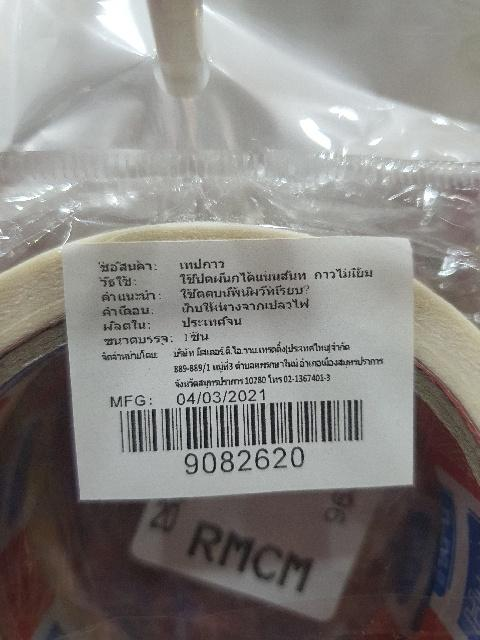Barcode: (113, 394, 374, 475)
